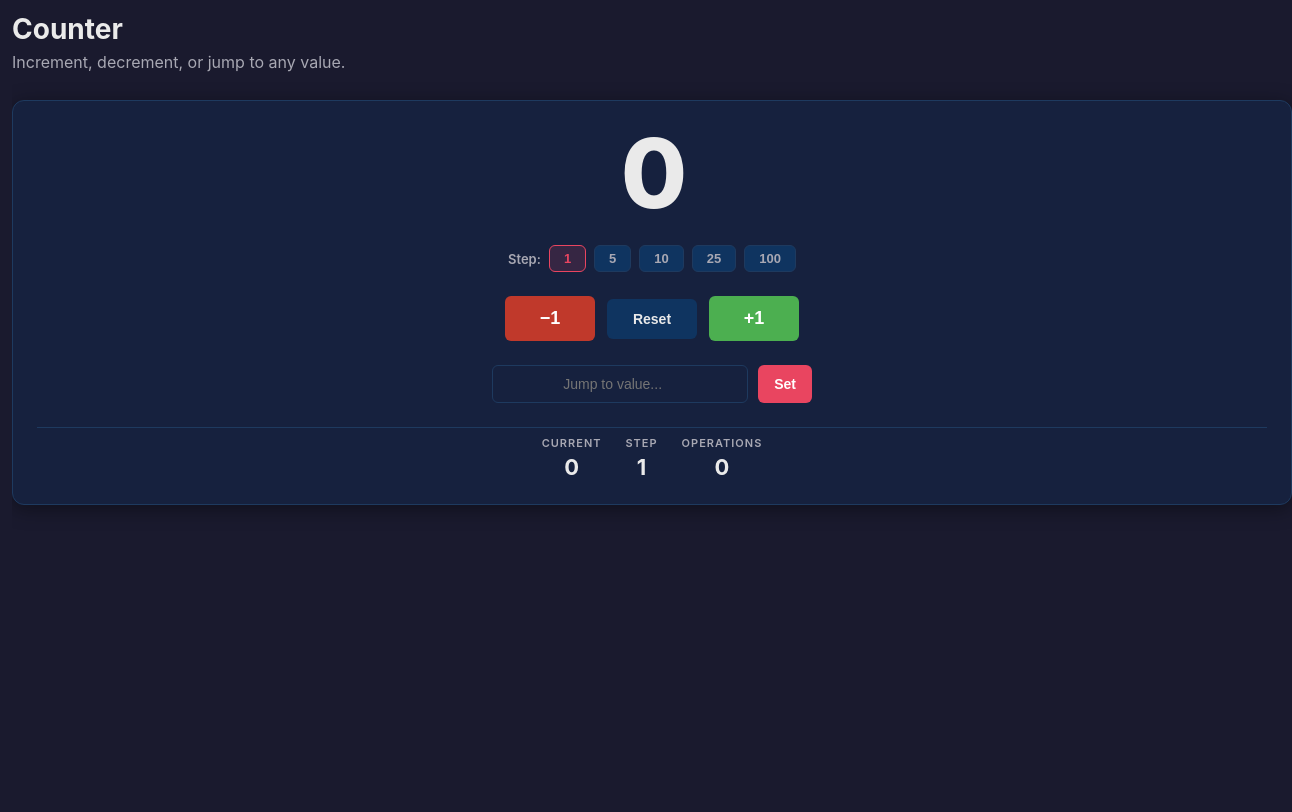
increments by step 1
This screenshot has width=1292, height=812.
Step 1. Click the button named "Increment by 1" → (754, 318), box [709,296,799,341]
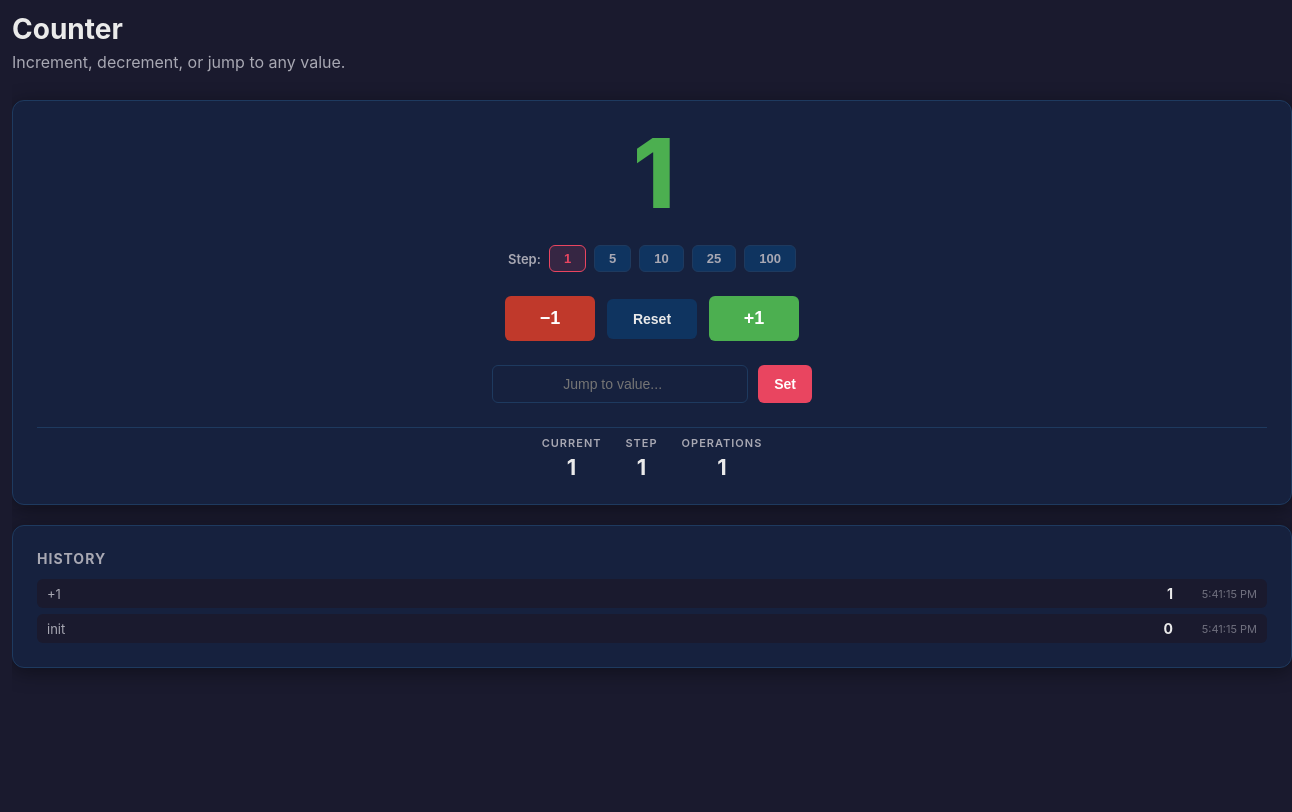
Now the text named "Counter value: 1" is shown, box [633,115,671,231]
